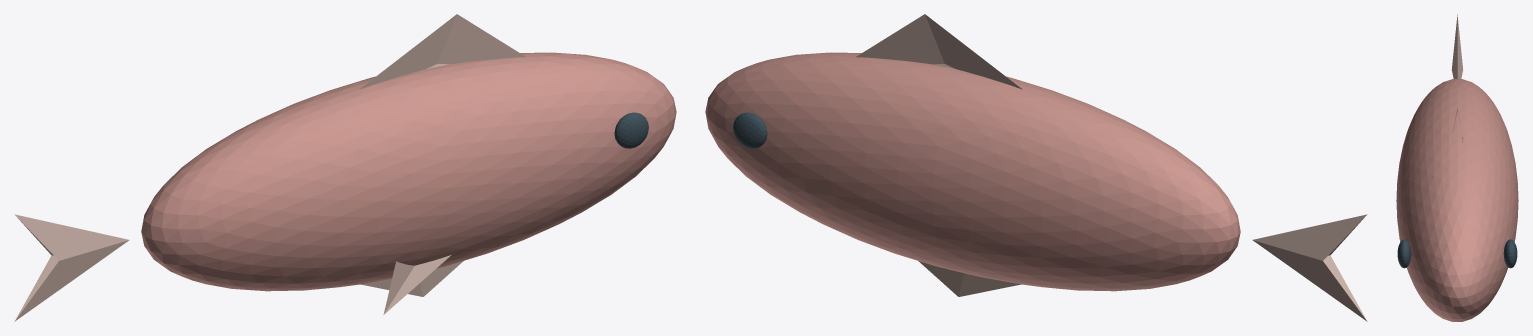
File: Ikan_Merah.glb
The picture shows the model from 3 angles, left to right: view 1: azimuth 30°, elevation 25°; view 2: azimuth 150°, elevation 25°; view 3: azimuth 270°, elevation 25°; orthographic projection. The views are drawn at different scales.
Parts seen in each view (by area): view 1: Part_00, Part_01, Part_02, Part_04, Part_05, Part_03; view 2: Part_00, Part_01, Part_02, Part_03, Part_06; view 3: Part_00, Part_01, Part_05, Part_06.
Part boxes in pixels (x1,y1,x2,y2): Part_00: (141,52,676,291); Part_01: (14,214,129,321); Part_02: (359,14,525,89); Part_04: (383,255,451,314); Part_05: (614,112,648,148); Part_03: (360,261,463,296); Part_00: (705,52,1240,291); Part_01: (1252,214,1367,321); Part_02: (856,14,1022,89); Part_03: (918,261,1021,296); Part_06: (733,112,767,148); Part_00: (1396,79,1518,321); Part_01: (1451,14,1463,78); Part_05: (1397,239,1411,268); Part_06: (1503,239,1517,268).
Size of the model in its own units: 1.51 by 0.6006 by 0.3192.
